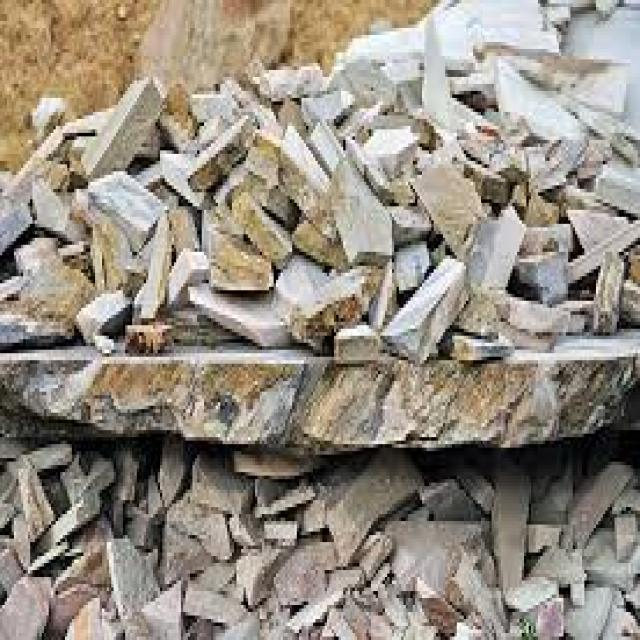Pecahan Agregat: (35, 61, 625, 386)
